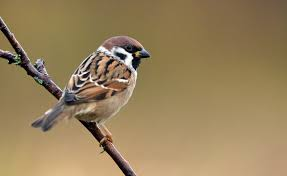hsparrow: (32, 34, 152, 160)
